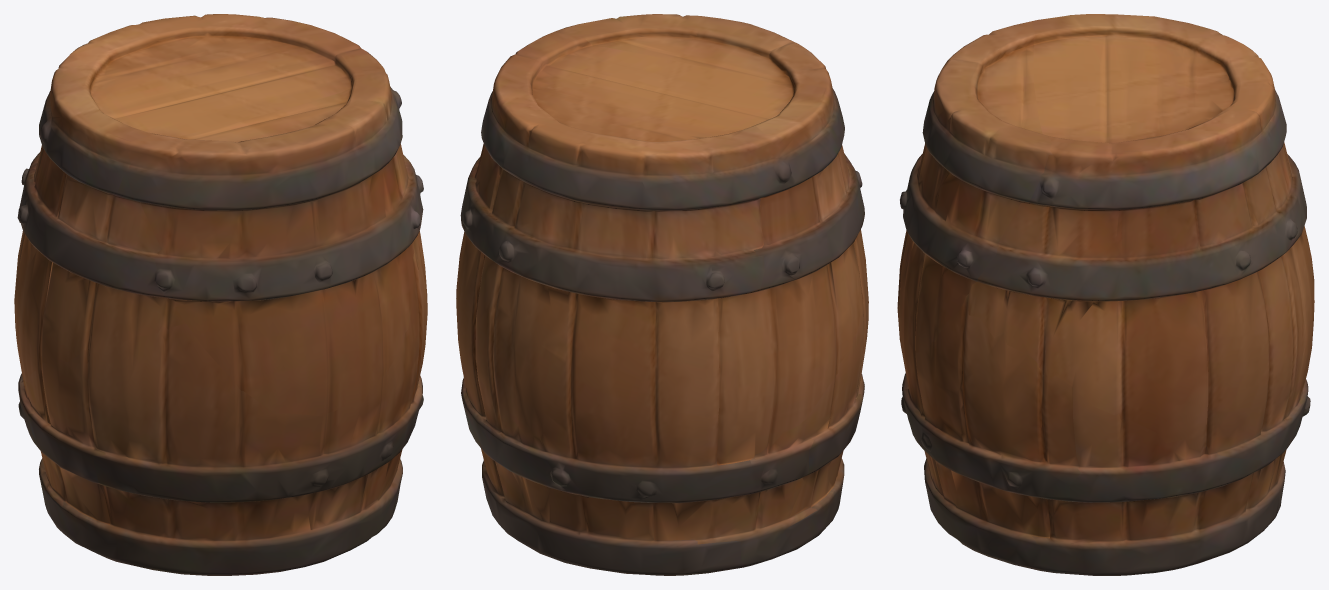
Rendered from etals.glb.
3 renders of one model, left to right at view 1: azimuth 30°, elevation 25°; view 2: azimuth 150°, elevation 25°; view 3: azimuth 270°, elevation 25°, orthographic.
Visible parts, largest first — view 1: tonneau; view 2: tonneau; view 3: tonneau.
Boxes of the visible parts, left/top/right/bottom form: tonneau: left=14, top=14, right=427, bottom=575; tonneau: left=456, top=14, right=868, bottom=575; tonneau: left=897, top=14, right=1314, bottom=575.
Bounding box in the file's own units: 0.7983 × 0.8999 × 0.8066.
Materials: 1 (1 with a texture image).
